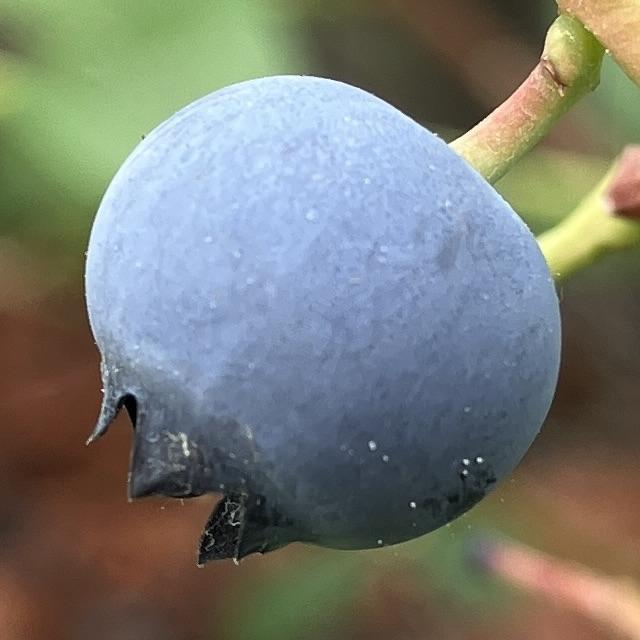Blueberries: (75, 66, 565, 567)
